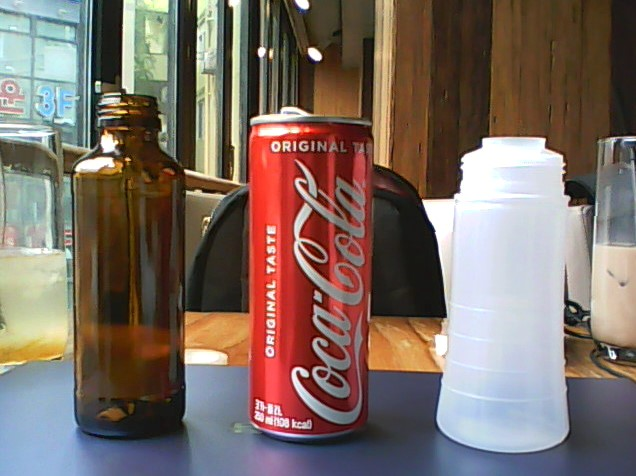Can: (239, 100, 380, 446)
Glass: (66, 87, 194, 441)
Plastic: (430, 128, 577, 458)
